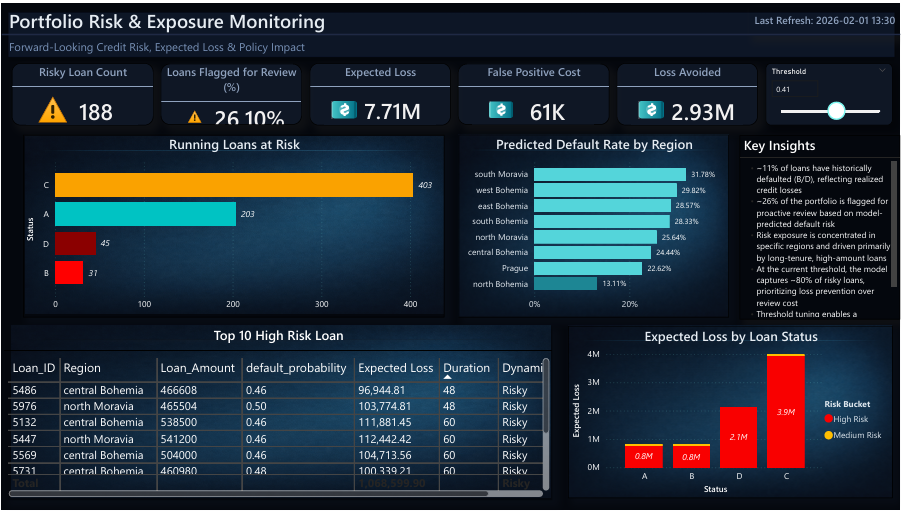

What the dashboard file says about the page in this screenshot:
{"tool":"powerbi","page":{"name":"Portfolio Risk & Exposure Monitoring","canvas":[1280,720],"ordinal":1},"visuals":[{"type":"shape","box":[0,3.1,1279.7,81.5],"z":0},{"type":"image","box":[34,187.6,595.7,252.7],"z":0,"group":"g1"},{"type":"image","box":[14.1,458.3,768,245.7],"z":0,"group":"g3"},{"type":"image","box":[806.5,458.7,460.4,245.2],"z":0,"group":"g4"},{"type":"textbox","box":[4.9,0,514.2,49.8],"z":1000},{"type":"image","box":[650.3,186,385,259.8],"z":1000,"group":"g2"},{"type":"textbox","box":[4.6,44.6,446.1,35.4],"z":2000},{"type":"shape","box":[0,38.5,1279.7,10.8],"z":3000},{"type":"card","title":"Total Loans","fields":{"Values":["Key_Measures.Last Refresh"]},"box":[1063.1,3.7,216.9,42.4],"z":4000},{"type":"group","id":"g1","title":"Group 1","box":[29.7,185.9,600,260],"z":5000},{"type":"group","id":"g2","title":"Group 2","box":[650.3,186,385.3,260.1],"z":6000},{"type":"group","id":"g3","title":"Group 1","box":[3.6,458.3,780.4,248],"z":7000},{"type":"slicer","title":"Threshold","fields":{"Values":["Threshold.Threshold"]},"box":[1086.8,83.5,180.7,89.7],"z":8000},{"type":"cardVisual","title":"Loss Avoided","fields":{"Data":["Buisness Measures.Loss Avoided"]},"box":[875.4,84,200.6,88.7],"z":9000},{"type":"cardVisual","title":"Risky Loan Count","fields":{"Data":["Buisness Measures.Risky Loan Count"]},"box":[13.7,84.2,201.9,88.5],"z":10000},{"type":"cardVisual","title":"False Positive Cost","fields":{"Data":["Buisness Measures.False Positive Cost"]},"box":[649.4,84.6,215.2,87.5],"z":11000},{"type":"cardVisual","title":"Expected Loss","fields":{"Data":["Buisness Measures.Expected Loss"]},"box":[438,84,200.6,88.7],"z":12000},{"type":"barChart","title":"Running Loans at Risk","fields":{"Category":["Master_Table.Status"],"Y":["CountNonNull(Master_Table.Loan_ID)"]},"box":[29.7,185.9,599.9,260],"z":12000,"group":"g1"},{"type":"clusteredBarChart","title":"Predicted Default Rate by Region","fields":{"Category":["Master_Table.Region"],"Y":["Key_Measures.Default rate Predicted"]},"box":[650.3,186,384.5,260],"z":12000,"group":"g2"},{"type":"columnChart","title":"Expected Loss by Loan Status","fields":{"Category":["Master_Table.Status"],"Series":["Master_Table.Risk Bucket"],"Y":["Buisness Measures.Expected Loss"]},"box":[805.9,458.3,461.9,245.2],"z":12000,"group":"g4"},{"type":"tableEx","title":"Top 10 High Risk Loan","fields":{"Values":["Master_Table.Loan_ID","Master_Table.Region","Master_Table.Loan_Amount","Master_Table.default_probability","Buisness Measures.Expected Loss","Master_Table.Duration","Buisness Measures.Dynamic Risk Flag (Measure)"]},"box":[3.6,458.7,780.4,247.6],"z":12000,"group":"g3"},{"type":"textbox","title":"Key Insights","box":[1050.3,187.2,229.7,261.3],"z":13000},{"type":"group","id":"g4","title":"Group 3","box":[805.9,458.3,461.9,245.5],"z":14000},{"type":"cardVisual","title":"Loans Flagged for Review (%)","fields":{"Data":["Key_Measures.Default rate Predicted"]},"box":[226.5,84.8,200.7,87.2],"z":15000}]}

Visuals, with their boxes in screenshot pixels (x1, y1, x2, y2), scaled from the page's 1280x720 canvas onto the 902x511 screenshot:
shape: (0, 2, 901, 60)
image: (24, 133, 444, 312)
image: (10, 325, 551, 500)
image: (568, 326, 893, 500)
textbox: (3, 0, 366, 35)
image: (458, 132, 730, 316)
textbox: (3, 32, 318, 57)
shape: (0, 27, 901, 35)
"Total Loans" card: (749, 3, 901, 33)
"Group 1" group: (21, 132, 444, 316)
"Group 2" group: (458, 132, 730, 317)
"Group 1" group: (3, 325, 552, 501)
"Threshold" slicer: (766, 59, 893, 123)
"Loss Avoided" cardVisual: (617, 60, 758, 123)
"Risky Loan Count" cardVisual: (10, 60, 152, 123)
"False Positive Cost" cardVisual: (458, 60, 609, 122)
"Expected Loss" cardVisual: (309, 60, 450, 123)
"Running Loans at Risk" barChart: (21, 132, 444, 316)
"Predicted Default Rate by Region" clusteredBarChart: (458, 132, 729, 317)
"Expected Loss by Loan Status" columnChart: (568, 325, 893, 499)
"Top 10 High Risk Loan" tableEx: (3, 326, 552, 501)
"Key Insights" textbox: (740, 133, 901, 318)
"Group 3" group: (568, 325, 893, 500)
"Loans Flagged for Review (%)" cardVisual: (160, 60, 301, 122)
